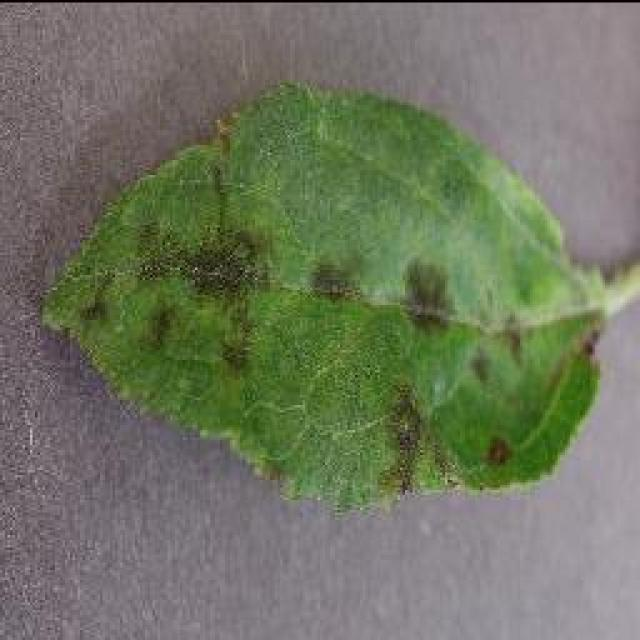apple scab disease: (35, 77, 637, 515)
